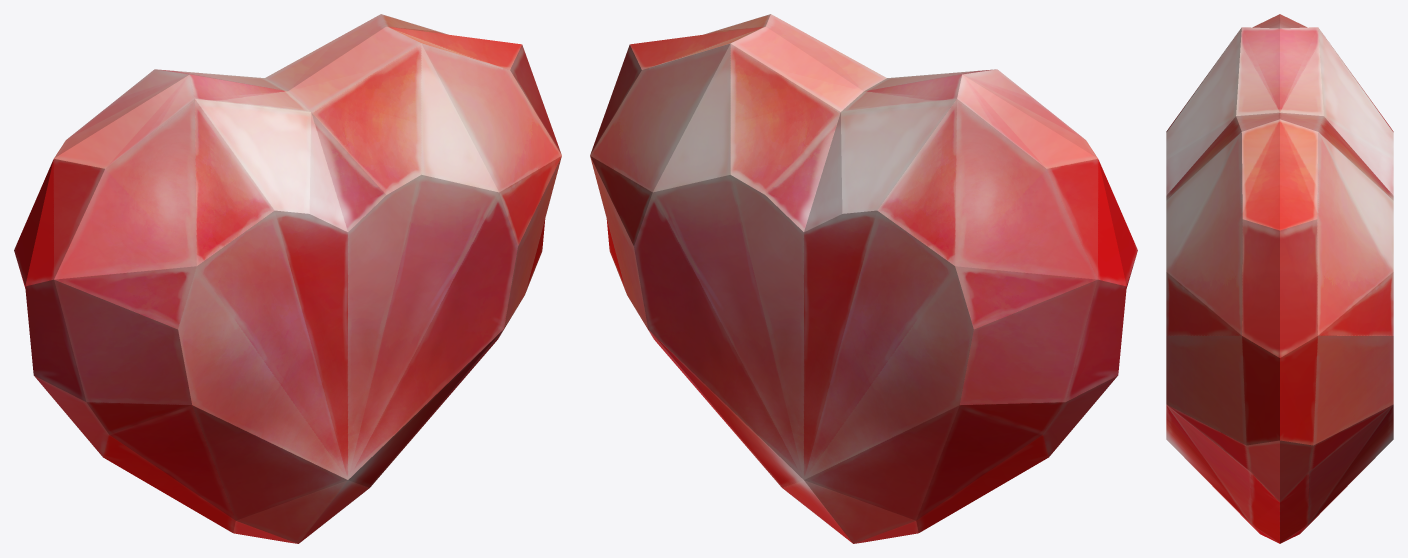
Rendered from heartGemStone.fbx.
3 renders of one model, left to right at view 1: azimuth 30°, elevation 25°; view 2: azimuth 150°, elevation 25°; view 3: azimuth 270°, elevation 25°, orthographic. The views are drawn at different scales.
Parts seen in each view (by area): view 1: HeartGemStoneToony; view 2: HeartGemStoneToony; view 3: HeartGemStoneToony.
Boxes of the visible parts, bbox=[...] form: HeartGemStoneToony: bbox=[14, 14, 561, 543]; HeartGemStoneToony: bbox=[590, 14, 1137, 543]; HeartGemStoneToony: bbox=[1166, 14, 1393, 543].
Bounding box in the file's own units: 40.79 × 16.15 × 36.49.
